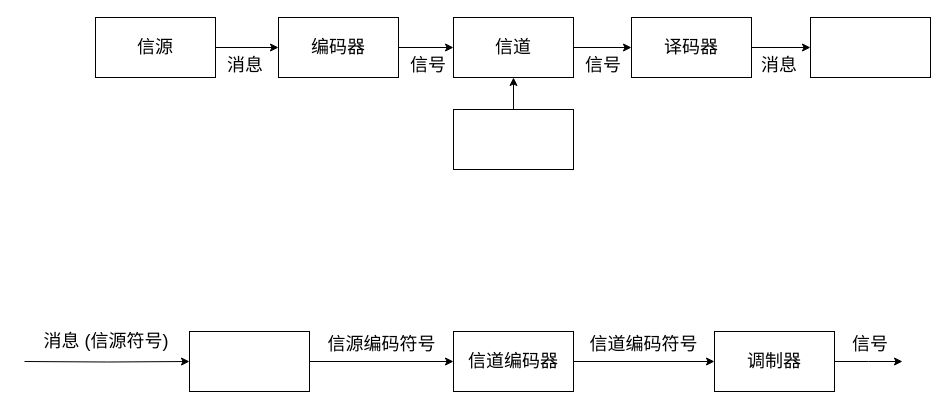
Image size: 948x409. Some labels were removed from this diagram. The shapes that lost their labels are listed below. From the top down, each one's centre as x and y in pixels, then its label:
At point (870, 47): "信宿".
At point (513, 139): "噪声".
At point (249, 361): "信源编码器".
